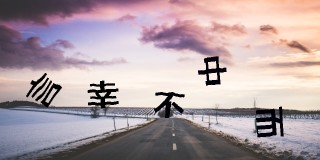不: (153, 91, 186, 118)
中: (198, 55, 227, 85)
幸: (87, 81, 119, 110)
而: (253, 106, 285, 138)
言: (27, 74, 62, 109)
